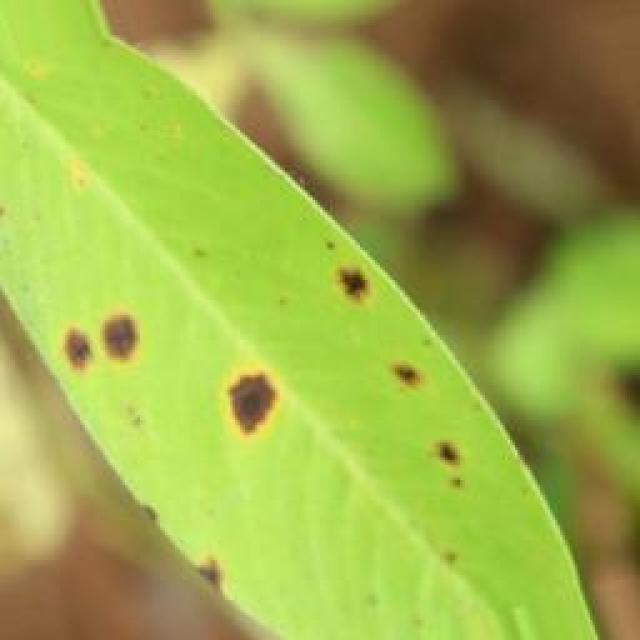Yellowish: (28, 196, 508, 598)
